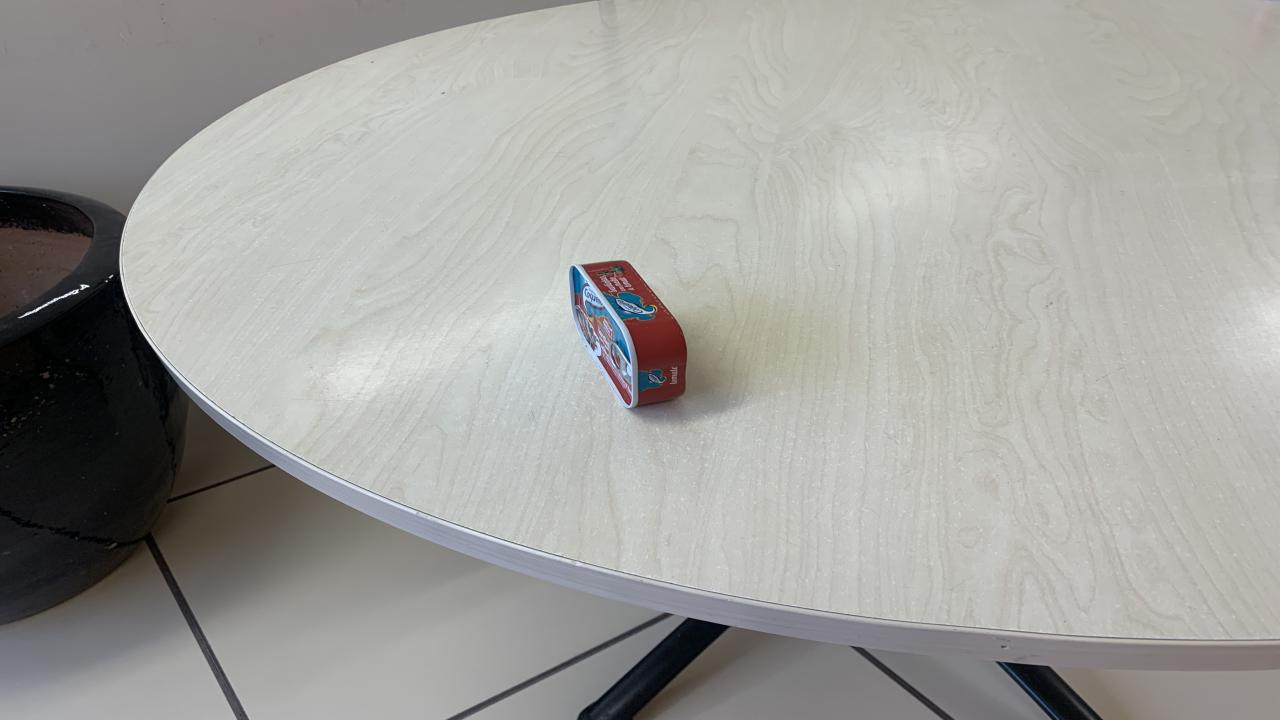Tuna_Can-Pantry_Items: (567, 261, 691, 411)
